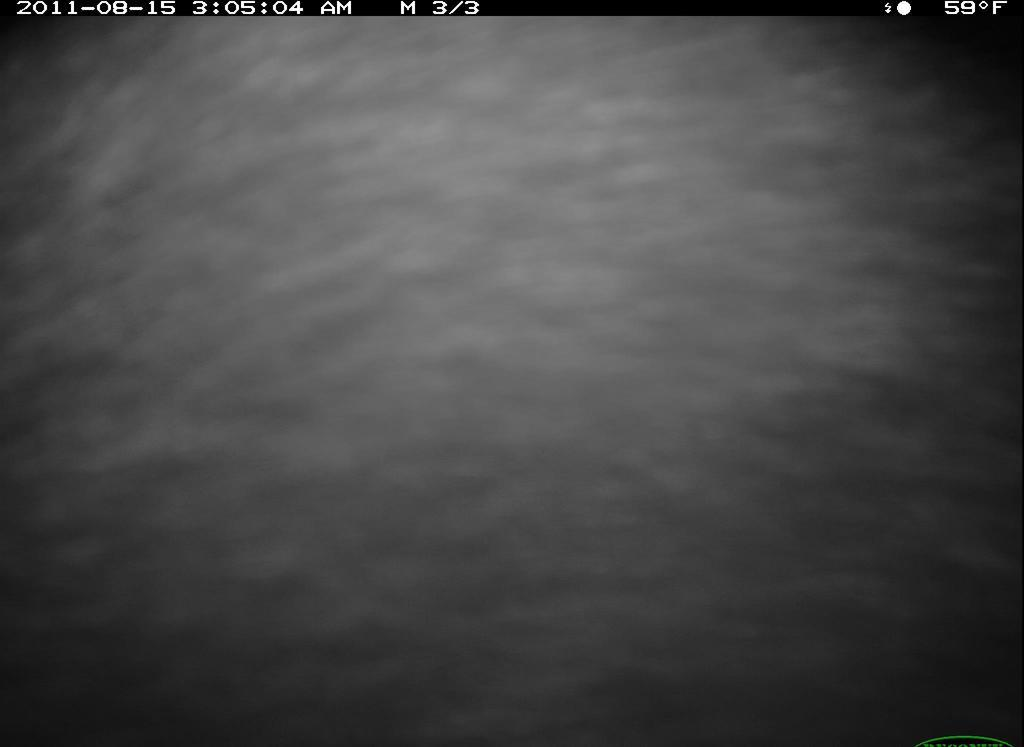raccoon: (1, 24, 1023, 747)
